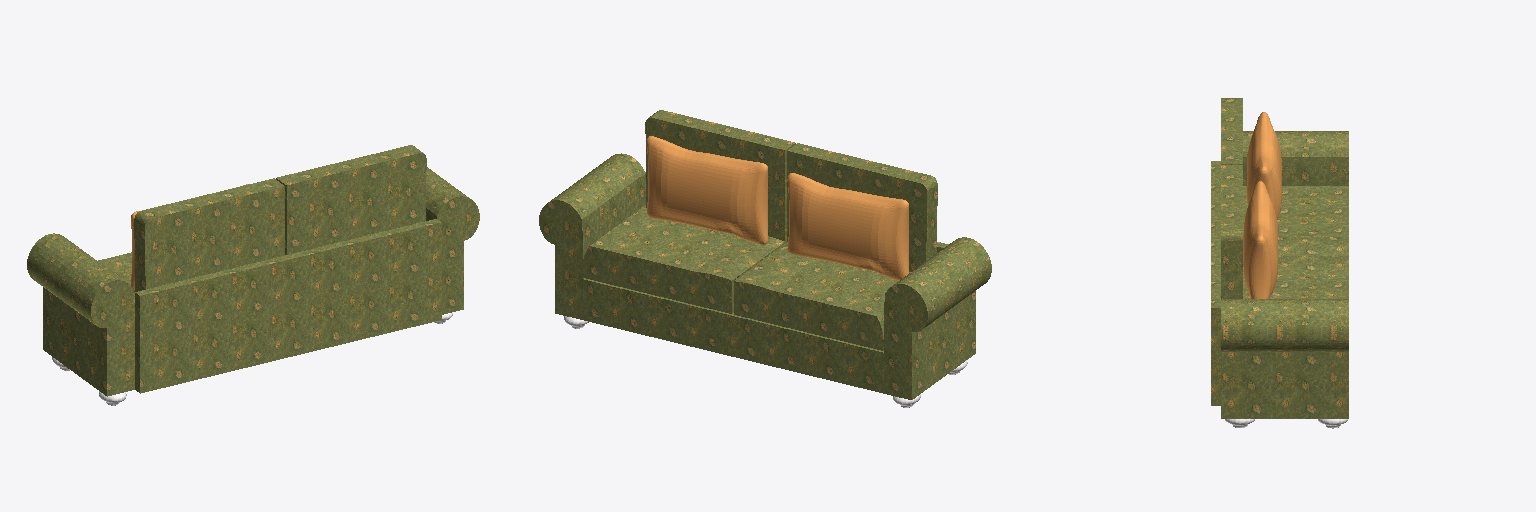
The picture shows the model from 3 angles: view 1: azimuth 30°, elevation 25°; view 2: azimuth 150°, elevation 25°; view 3: azimuth 270°, elevation 25°; orthographic projection.
Visible parts, largest first — view 1: mesh20_mesh20-geometry, mesh23_mesh23-geometry, mesh10_mesh10-geometry, mesh22_mesh22-geometry, mesh14_mesh14-geometry, mesh16_mesh16-geometry; view 2: mesh29_mesh29-geometry, mesh18_mesh18-geometry, mesh10_mesh10-geometry, mesh12_mesh12-geometry, mesh16_mesh16-geometry, mesh14_mesh14-geometry, mesh23_mesh23-geometry, mesh22_mesh22-geometry; view 3: mesh14_mesh14-geometry, mesh29_mesh29-geometry, mesh16_mesh16-geometry, mesh10_mesh10-geometry, mesh12_mesh12-geometry, mesh22_mesh22-geometry, mesh20_mesh20-geometry, mesh23_mesh23-geometry.
Part boxes in pixels (x1,y1,x2,y2): mesh20_mesh20-geometry: (135, 219, 441, 393); mesh23_mesh23-geometry: (134, 178, 284, 291); mesh10_mesh10-geometry: (27, 233, 134, 396); mesh22_mesh22-geometry: (276, 145, 426, 254); mesh14_mesh14-geometry: (426, 167, 479, 314); mesh16_mesh16-geometry: (98, 252, 134, 302); mesh29_mesh29-geometry: (647, 136, 908, 280); mesh18_mesh18-geometry: (583, 278, 883, 393); mesh10_mesh10-geometry: (884, 237, 991, 399); mesh12_mesh12-geometry: (582, 205, 786, 313); mesh16_mesh16-geometry: (734, 242, 910, 350); mesh14_mesh14-geometry: (539, 153, 645, 319); mesh23_mesh23-geometry: (787, 143, 937, 271); mesh22_mesh22-geometry: (645, 110, 795, 241); mesh14_mesh14-geometry: (1221, 299, 1348, 418); mesh29_mesh29-geometry: (1243, 112, 1281, 298); mesh16_mesh16-geometry: (1243, 186, 1348, 255); mesh10_mesh10-geometry: (1243, 131, 1348, 185); mesh12_mesh12-geometry: (1243, 256, 1348, 298); mesh22_mesh22-geometry: (1221, 165, 1242, 298); mesh20_mesh20-geometry: (1211, 161, 1220, 405); mesh23_mesh23-geometry: (1221, 98, 1242, 164).
Size of the model in its own units: 0.878 by 0.395 by 0.2704.
Materials: 4 (1 with a texture image).